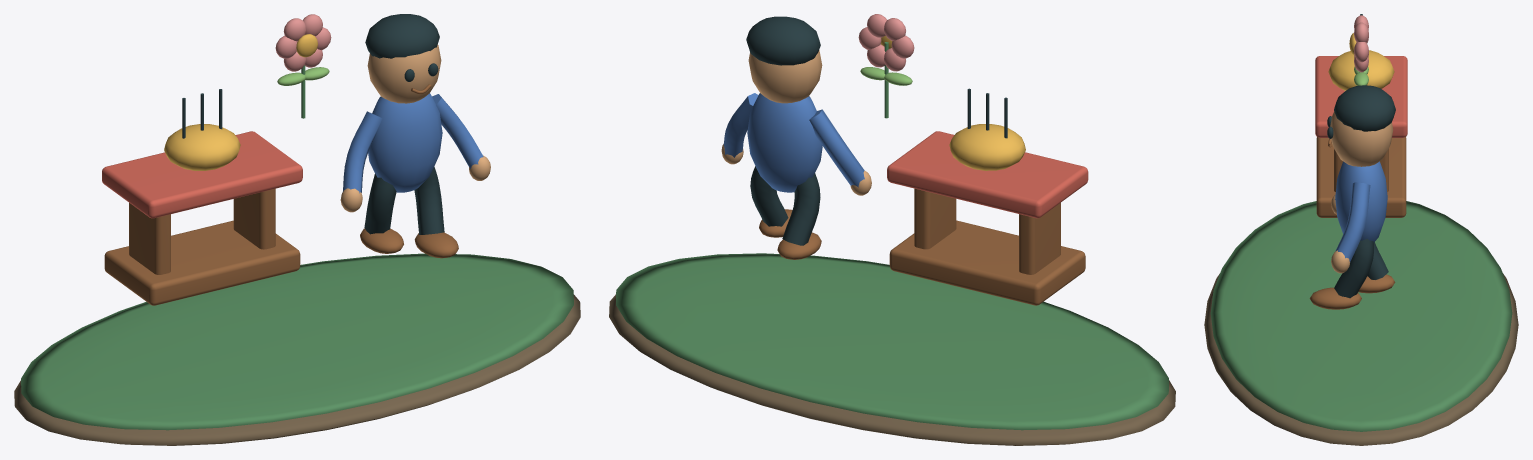
The model's file is complete-second-brother-blessing.glb.
3 views of the same model, side by side, from view 1: azimuth 30°, elevation 25°; view 2: azimuth 150°, elevation 25°; view 3: azimuth 270°, elevation 25° (orthographic). The views are drawn at different scales.
Parts seen in each view (by area): view 1: complete-second-brother-blessing_surface_01, complete-second-brother-blessing_surface_02, complete-second-brother-blessing_surface_00, complete-second-brother-blessing_surface_03, complete-second-brother-blessing_surface_07, complete-second-brother-blessing_surface_05, complete-second-brother-blessing_surface_06, complete-second-brother-blessing_surface_04, complete-second-brother-blessing_surface_09, complete-second-brother-blessing_surface_08; view 2: complete-second-brother-blessing_surface_01, complete-second-brother-blessing_surface_02, complete-second-brother-blessing_surface_00, complete-second-brother-blessing_surface_03, complete-second-brother-blessing_surface_07, complete-second-brother-blessing_surface_05, complete-second-brother-blessing_surface_06, complete-second-brother-blessing_surface_04, complete-second-brother-blessing_surface_09, complete-second-brother-blessing_surface_08; view 3: complete-second-brother-blessing_surface_01, complete-second-brother-blessing_surface_00, complete-second-brother-blessing_surface_02, complete-second-brother-blessing_surface_05, complete-second-brother-blessing_surface_07, complete-second-brother-blessing_surface_03, complete-second-brother-blessing_surface_06, complete-second-brother-blessing_surface_04, complete-second-brother-blessing_surface_09.
Boxes of the visible parts, x1,y1,x2,y2 form: complete-second-brother-blessing_surface_01: (21, 65, 573, 430); complete-second-brother-blessing_surface_02: (104, 84, 458, 305); complete-second-brother-blessing_surface_00: (14, 294, 580, 445); complete-second-brother-blessing_surface_03: (102, 131, 302, 218); complete-second-brother-blessing_surface_07: (342, 93, 483, 193); complete-second-brother-blessing_surface_05: (182, 14, 444, 234); complete-second-brother-blessing_surface_06: (340, 44, 490, 212); complete-second-brother-blessing_surface_04: (164, 34, 317, 170); complete-second-brother-blessing_surface_09: (275, 14, 331, 71); complete-second-brother-blessing_surface_08: (277, 67, 329, 85); complete-second-brother-blessing_surface_01: (616, 42, 1168, 430); complete-second-brother-blessing_surface_02: (759, 188, 1085, 305); complete-second-brother-blessing_surface_00: (609, 294, 1175, 445); complete-second-brother-blessing_surface_03: (887, 131, 1088, 218); complete-second-brother-blessing_surface_07: (723, 93, 864, 192); complete-second-brother-blessing_surface_05: (746, 16, 1007, 245); complete-second-brother-blessing_surface_06: (721, 50, 871, 195); complete-second-brother-blessing_surface_04: (881, 36, 1025, 170); complete-second-brother-blessing_surface_09: (858, 14, 914, 71); complete-second-brother-blessing_surface_08: (860, 67, 912, 85); complete-second-brother-blessing_surface_01: (1210, 201, 1512, 431); complete-second-brother-blessing_surface_00: (1204, 273, 1518, 445); complete-second-brother-blessing_surface_02: (1309, 137, 1406, 309); complete-second-brother-blessing_surface_05: (1327, 14, 1395, 298); complete-second-brother-blessing_surface_07: (1335, 161, 1387, 262); complete-second-brother-blessing_surface_03: (1315, 56, 1407, 137); complete-second-brother-blessing_surface_06: (1330, 111, 1393, 273); complete-second-brother-blessing_surface_04: (1328, 33, 1394, 90); complete-second-brother-blessing_surface_09: (1354, 15, 1368, 72).
Size of the model in its own units: 4.56 by 2.83 by 2.5.
